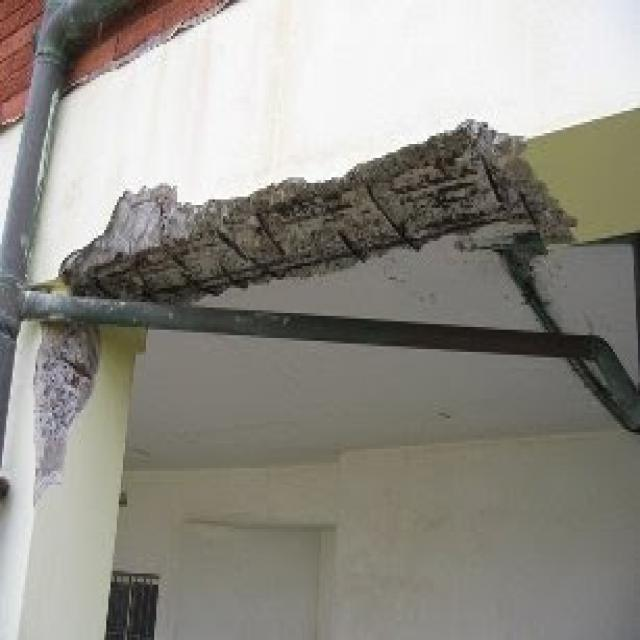Spalling: (29, 120, 575, 412)
